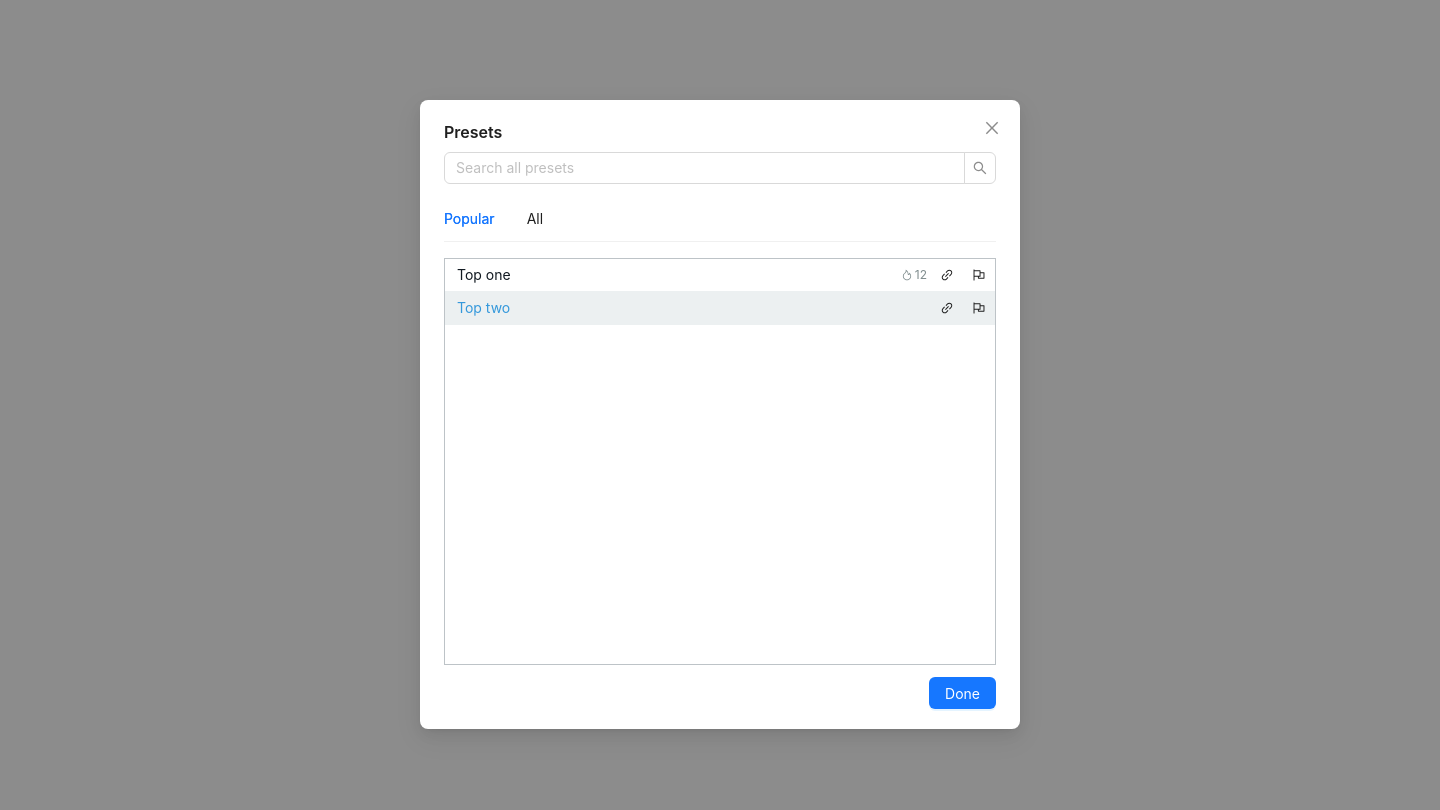
Test: PresetBrowser › loads the next page when the end of the list is visible
The image size is (1440, 810).
Click the tab "All" at (535, 219), box top-left (527, 208), bottom-right (543, 230)
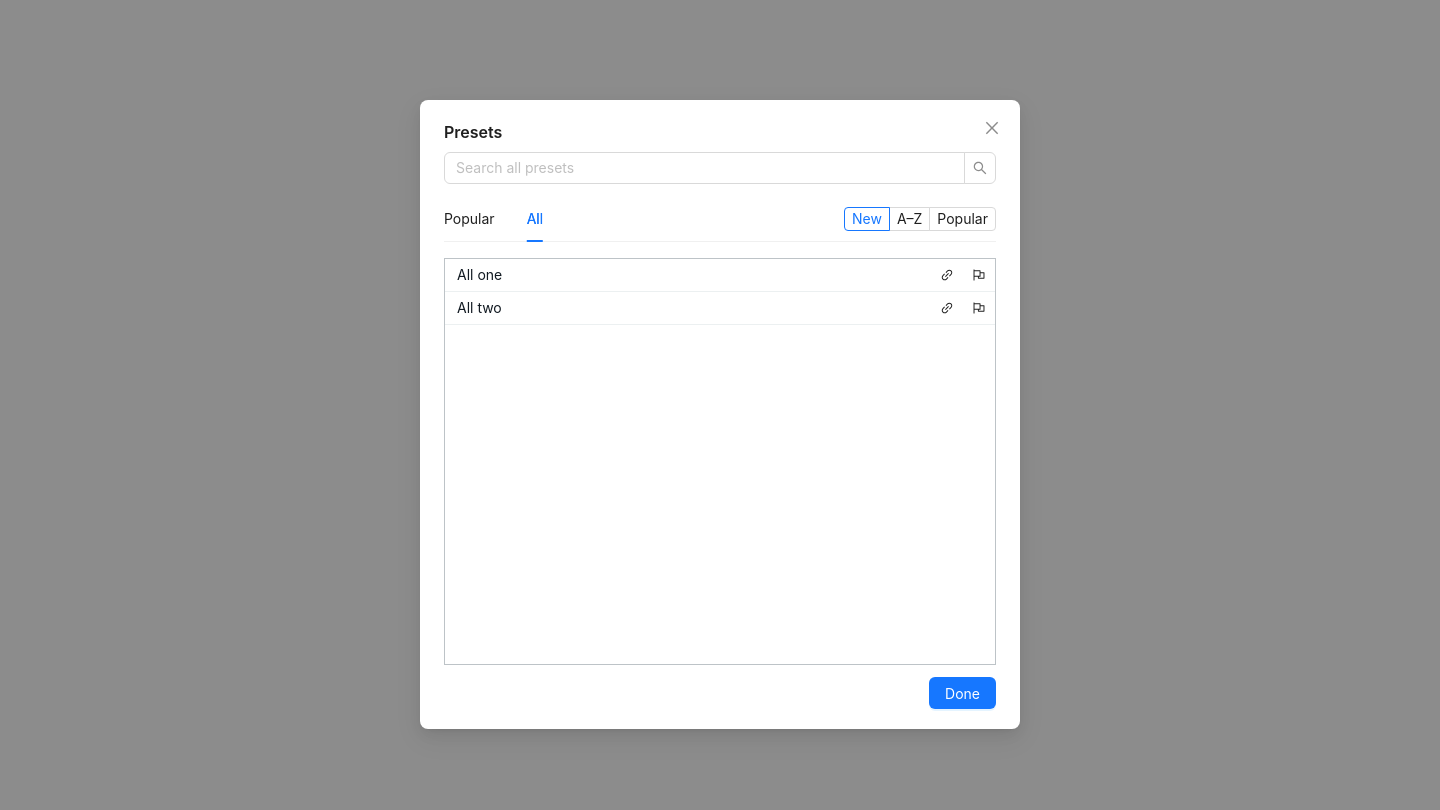
Expected: the text "All two" is shown, top-left (457, 299), bottom-right (502, 316)
Expected: the text "All one" is shown, top-left (457, 266), bottom-right (502, 283)
